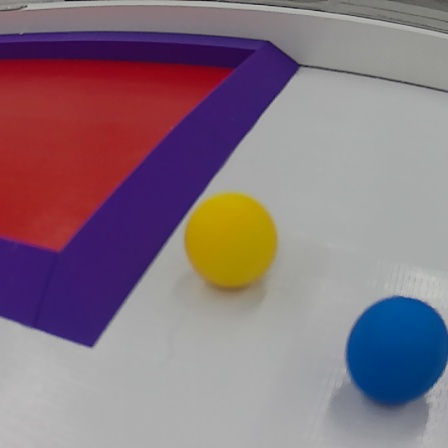blue: (341, 294, 448, 412)
red_aim: (0, 30, 304, 346)
yellow: (183, 196, 281, 290)
